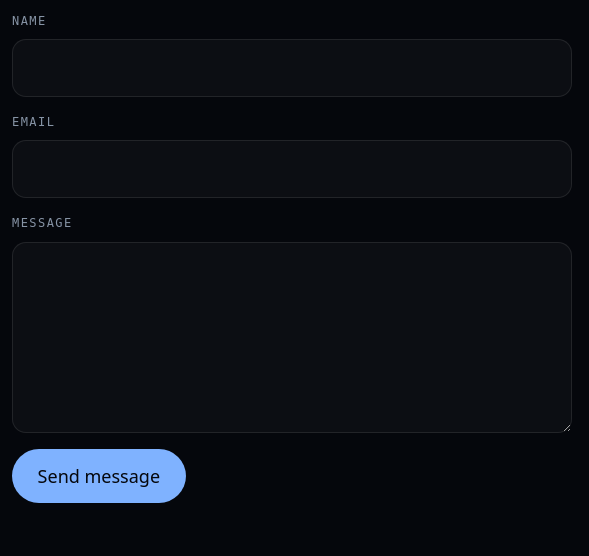
it: ContactForm › surfaces a rate-limit error
Type "Ada" into the field labelled "Name" at (292, 68), box 12,39 -> 572,97
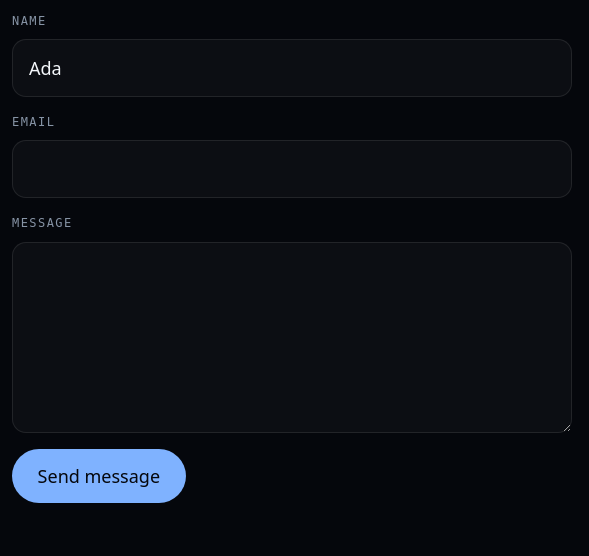
Type "ada@example.com" into the field labelled "Email" at (292, 169), box 12,140 -> 572,198
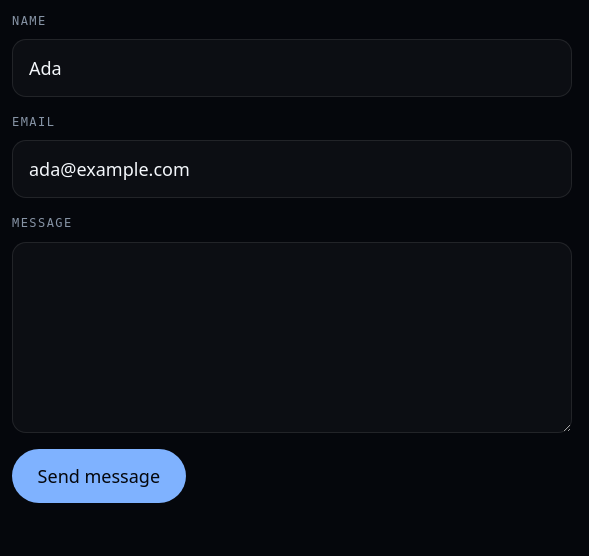
Type "Another long enough message." into the text box labelled "Message" at (292, 337), box 12,242 -> 572,433
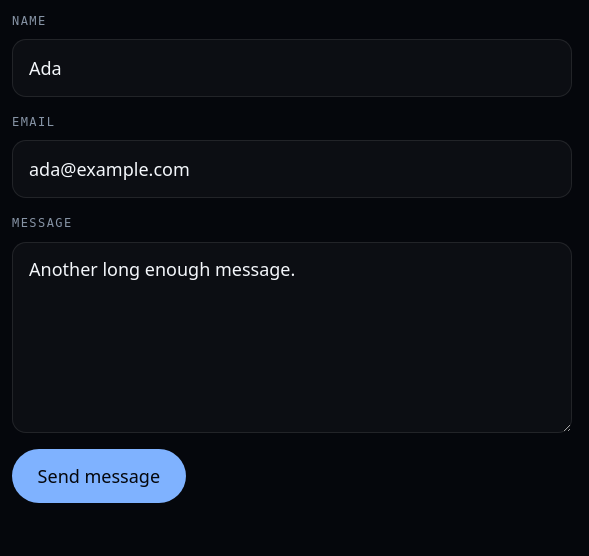
Click the button "Send message" at (99, 476), box 12,449 -> 186,503
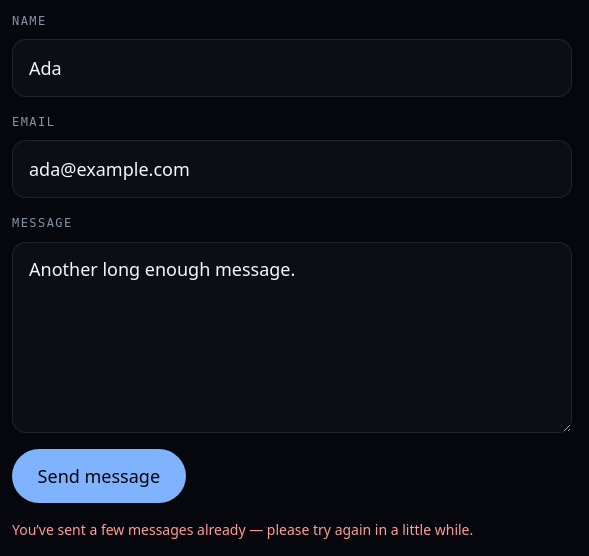
Now the message shows "try again in a little while", box 12,520 -> 473,539
